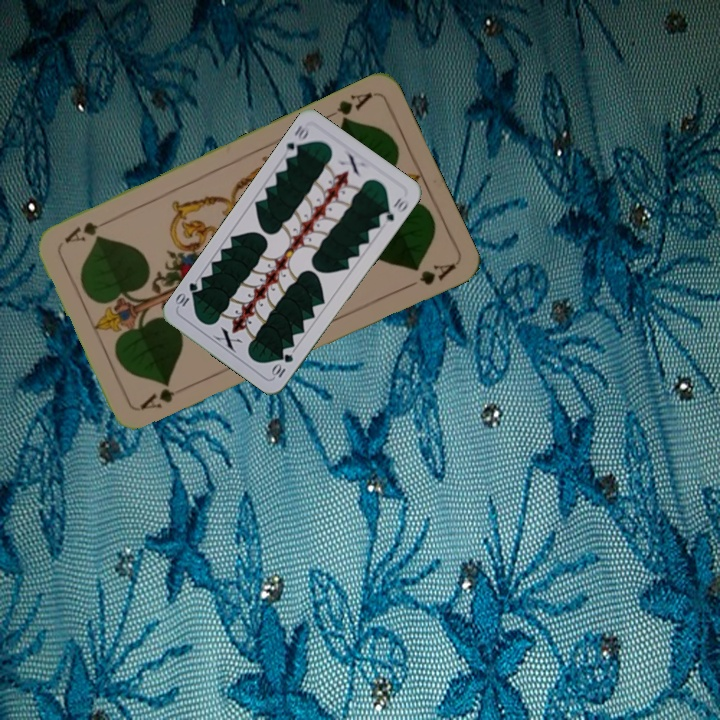G10: (282, 121, 312, 160), (268, 350, 296, 380)
GA: (320, 88, 375, 125), (136, 381, 192, 413)
